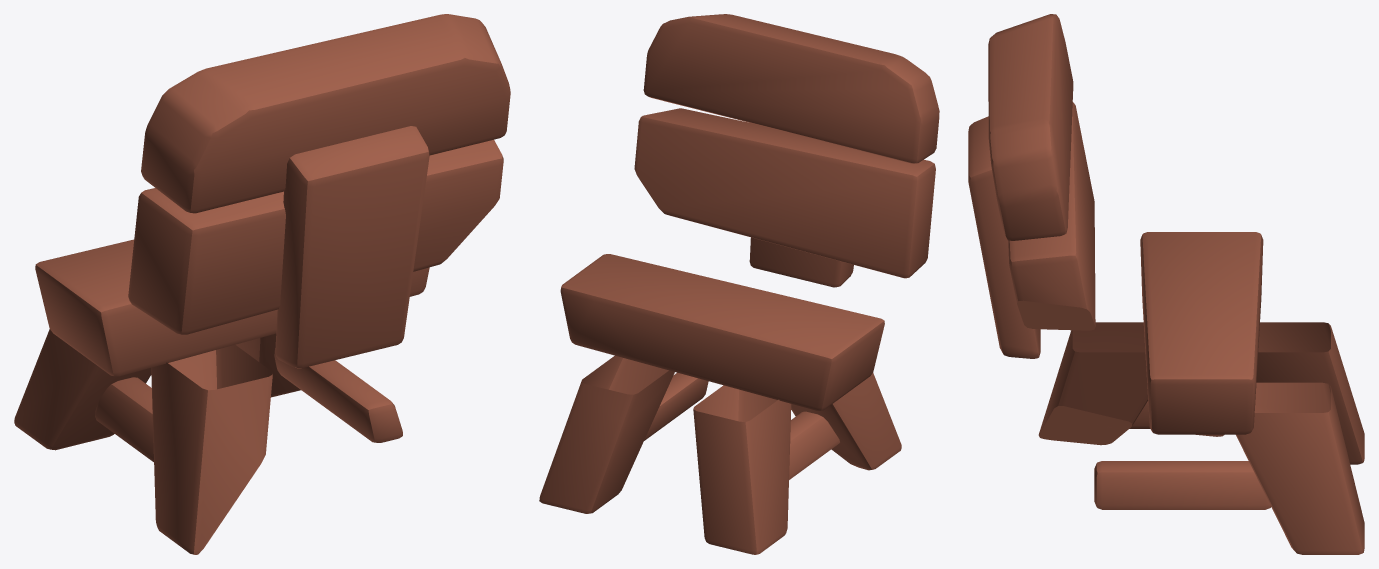
File: chair_destroyedVersion.fbx
3 renders of one model, left to right at view 1: azimuth 30°, elevation 25°; view 2: azimuth 150°, elevation 25°; view 3: azimuth 270°, elevation 25°, orthographic. The views are drawn at different scales.
Parts seen in each view (by area): view 1: chair_cell.008, chair_cell.009, chair_cell.007, chair_cell.006, chair_cell.001, chair_cell.005, chair_cell.003, chair_cell.002; view 2: chair_cell.007, chair_cell.001, chair_cell.008, chair_cell.005, chair_cell.002, chair_cell.006, chair_cell.009, chair_cell.003; view 3: chair_cell.001, chair_cell.008, chair_cell.002, chair_cell.006, chair_cell.007, chair_cell.003, chair_cell.005, chair_cell.009.
Part boxes in pixels (x1=…): chair_cell.008: x1=141, y1=14, x2=510, y2=213; chair_cell.009: x1=275, y1=126, x2=429, y2=368; chair_cell.007: x1=128, y1=139, x2=503, y2=334; chair_cell.006: x1=95, y1=344, x2=272, y2=554; chair_cell.001: x1=35, y1=239, x2=429, y2=376; chair_cell.005: x1=14, y1=329, x2=151, y2=450; chair_cell.003: x1=274, y1=347, x2=402, y2=442; chair_cell.002: x1=235, y1=333, x2=300, y2=397; chair_cell.007: x1=634, y1=108, x2=935, y2=278; chair_cell.001: x1=560, y1=254, x2=884, y2=410; chair_cell.008: x1=643, y1=14, x2=939, y2=163; chair_cell.005: x1=693, y1=385, x2=791, y2=554; chair_cell.002: x1=539, y1=355, x2=674, y2=513; chair_cell.006: x1=789, y1=372, x2=901, y2=479; chair_cell.009: x1=749, y1=237, x2=853, y2=287; chair_cell.003: x1=644, y1=372, x2=708, y2=440; chair_cell.001: x1=1140, y1=232, x2=1263, y2=434; chair_cell.008: x1=988, y1=14, x2=1073, y2=240; chair_cell.002: x1=1236, y1=382, x2=1364, y2=554; chair_cell.006: x1=1038, y1=322, x2=1150, y2=445; chair_cell.007: x1=1008, y1=102, x2=1095, y2=330; chair_cell.003: x1=1094, y1=461, x2=1270, y2=509; chair_cell.005: x1=1256, y1=322, x2=1364, y2=464; chair_cell.009: x1=968, y1=116, x2=1040, y2=358.
Bounding box in the file's own units: 74.63 × 99.09 × 82.97.
